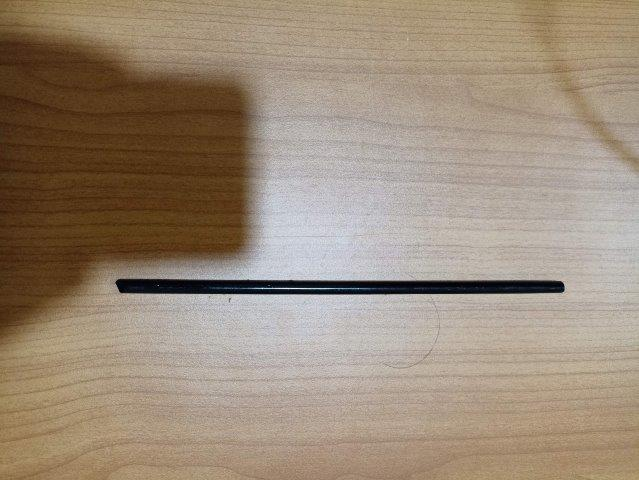sedotan: (115, 279, 564, 295)
